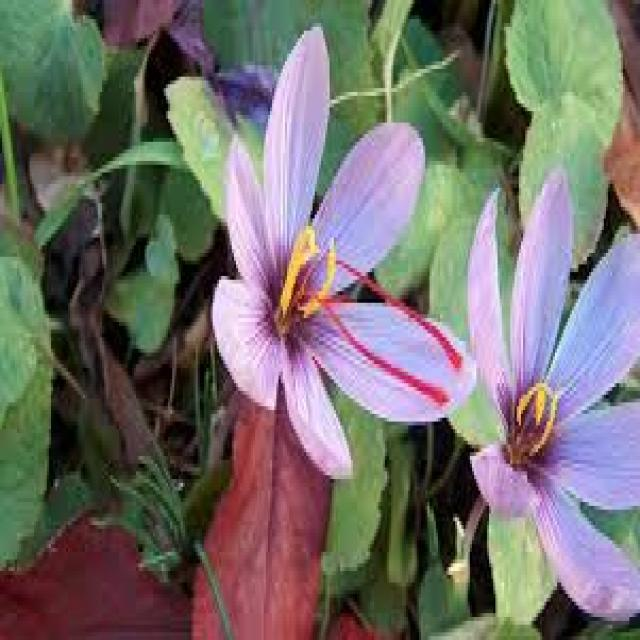Flower: (213, 22, 465, 461), (465, 166, 640, 614)
stigma: (303, 234, 459, 419), (285, 212, 322, 331)
